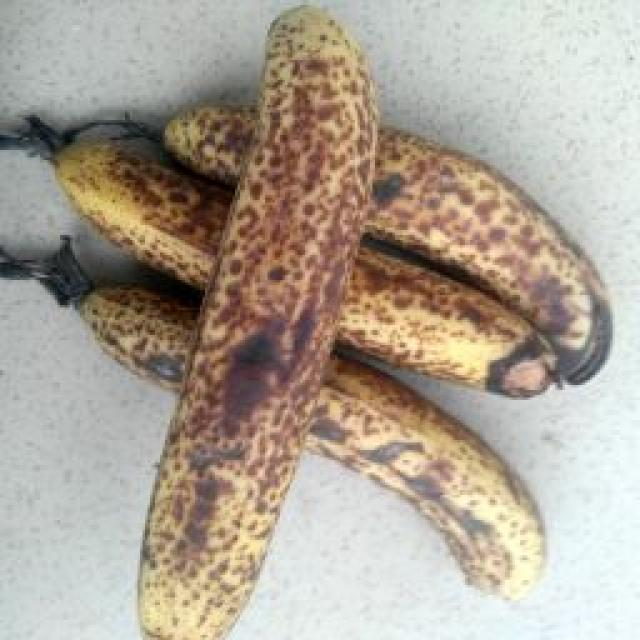banana: (50, 52, 503, 604)
